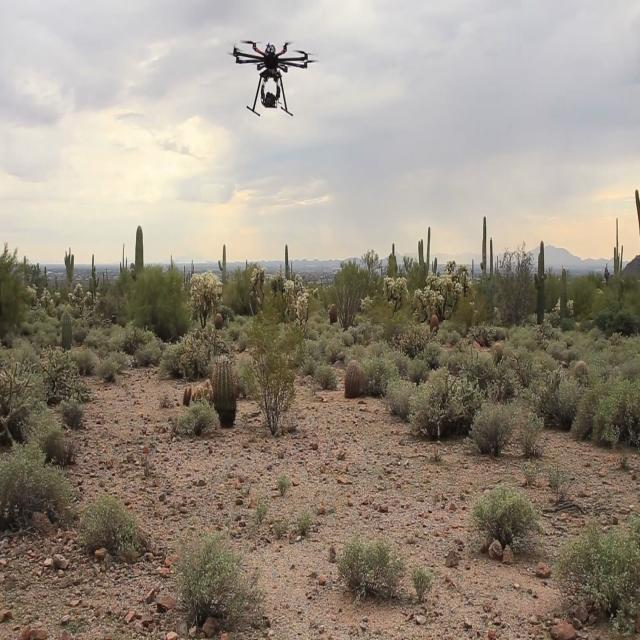drone: (228, 20, 325, 144)
